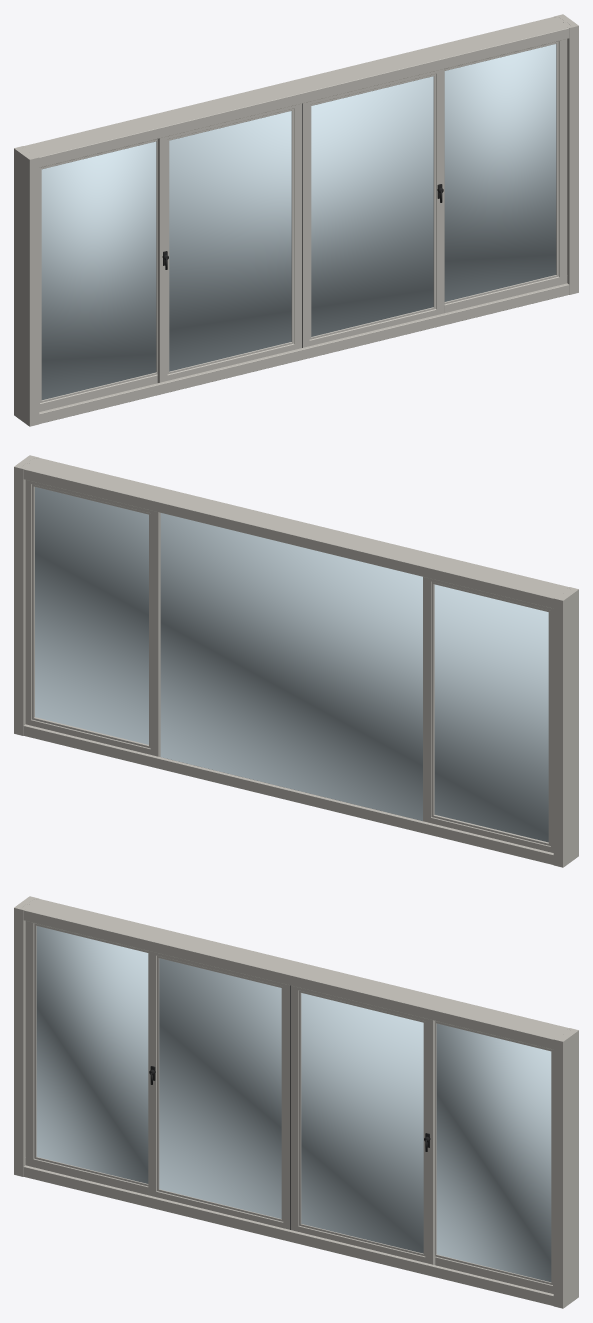
The model's file is window4.glb.
3 renders of one model, top to bottom at view 1: azimuth 30°, elevation 25°; view 2: azimuth 150°, elevation 25°; view 3: azimuth 330°, elevation 25°, orthographic.
Parts seen in each view (by area): view 1: glass_m, glass_l, glass_r, head, jamb_l, sill, in_m_mid, jamb_r, in_m_sa, in_r_sb, in_m_sb, in_m_low (+4 smaller); view 2: glass_out, head, jamb_l, sill, jamb_r, out_r_sa, out_l_sb, out_r_sb, out_l_sa, out_r_low, out_l_low, out_r_top (+1 smaller); view 3: glass_m, glass_r, glass_l, head, jamb_r, sill, in_m_mid, jamb_l, in_m_sb, in_l_sa, in_m_sa, in_m_low (+4 smaller).
Boxes of the visible parts, x1=… form: glass_m: x1=169, y1=76, x2=433, y2=371; glass_l: x1=41, y1=141, x2=156, y2=400; glass_r: x1=444, y1=44, x2=556, y2=301; head: x1=22, y1=17, x2=570, y2=167; jamb_l: x1=14, y1=146, x2=39, y2=426; sill: x1=39, y1=283, x2=569, y2=423; in_m_mid: x1=291, y1=102, x2=311, y2=344; jamb_r: x1=553, y1=14, x2=578, y2=294; in_m_sa: x1=157, y1=136, x2=169, y2=382; in_r_sb: x1=556, y1=39, x2=567, y2=277; in_m_sb: x1=433, y1=69, x2=444, y2=314; in_m_low: x1=165, y1=307, x2=439, y2=381; glass_out: x1=35, y1=487, x2=548, y2=842; head: x1=22, y1=458, x2=570, y2=608; jamb_l: x1=553, y1=587, x2=578, y2=867; sill: x1=23, y1=724, x2=553, y2=864; jamb_r: x1=14, y1=455, x2=39, y2=735; out_r_sa: x1=149, y1=510, x2=160, y2=756; out_l_sb: x1=423, y1=577, x2=434, y2=822; out_r_sb: x1=25, y1=480, x2=34, y2=723; out_l_sa: x1=548, y1=608, x2=553, y2=852; out_r_low: x1=25, y1=717, x2=153, y2=755; out_l_low: x1=428, y1=815, x2=553, y2=852; out_r_top: x1=26, y1=480, x2=150, y2=514; glass_m: x1=159, y1=958, x2=423, y2=1253; glass_r: x1=436, y1=1023, x2=551, y2=1282; glass_l: x1=36, y1=926, x2=148, y2=1183; head: x1=22, y1=899, x2=570, y2=1049; jamb_r: x1=553, y1=1028, x2=578, y2=1308; sill: x1=23, y1=1165, x2=553, y2=1305; in_m_mid: x1=281, y1=984, x2=301, y2=1230; jamb_l: x1=14, y1=896, x2=39, y2=1176; in_m_sb: x1=423, y1=1018, x2=435, y2=1264; in_l_sa: x1=25, y1=921, x2=36, y2=1165; in_m_sa: x1=148, y1=951, x2=159, y2=1196; in_m_low: x1=153, y1=1189, x2=427, y2=1263.
Bounding box in the file's own units: 2.8 × 1.3 × 0.14.
